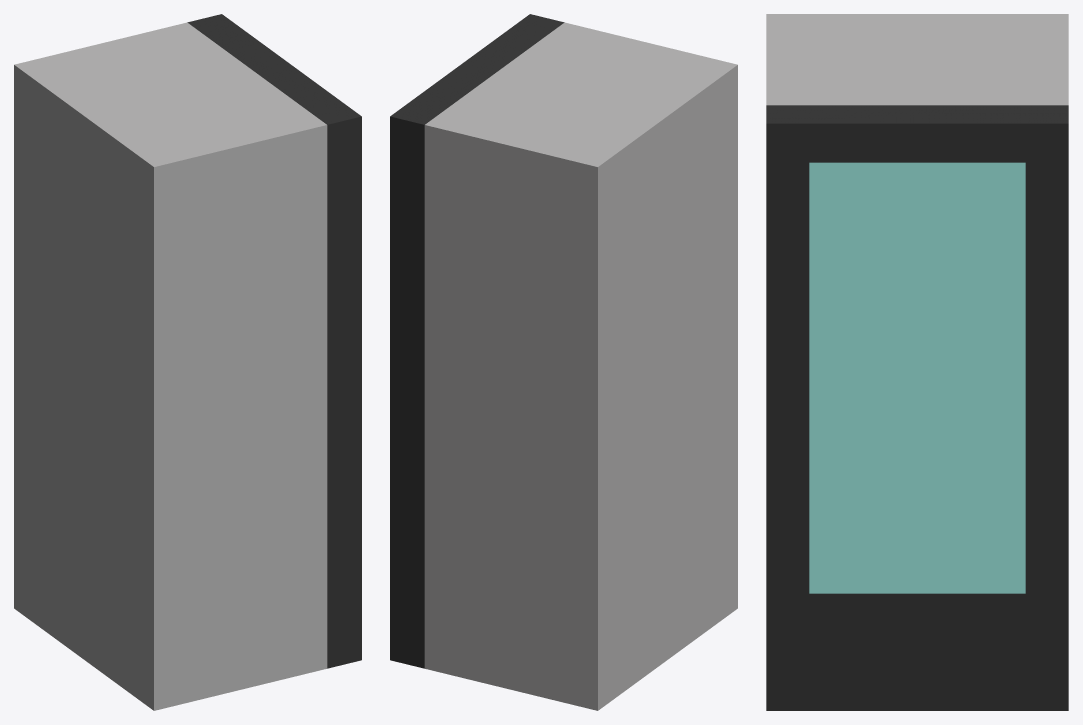
The model's file is refrigerator.obj.
The picture shows the model from 3 angles, left to right: view 1: azimuth 30°, elevation 25°; view 2: azimuth 150°, elevation 25°; view 3: azimuth 270°, elevation 25°; orthographic projection. The views are drawn at different scales.
Bounding box in the file's own units: 0.6 × 1.5 × 0.7.
1 material, 1 textured.
